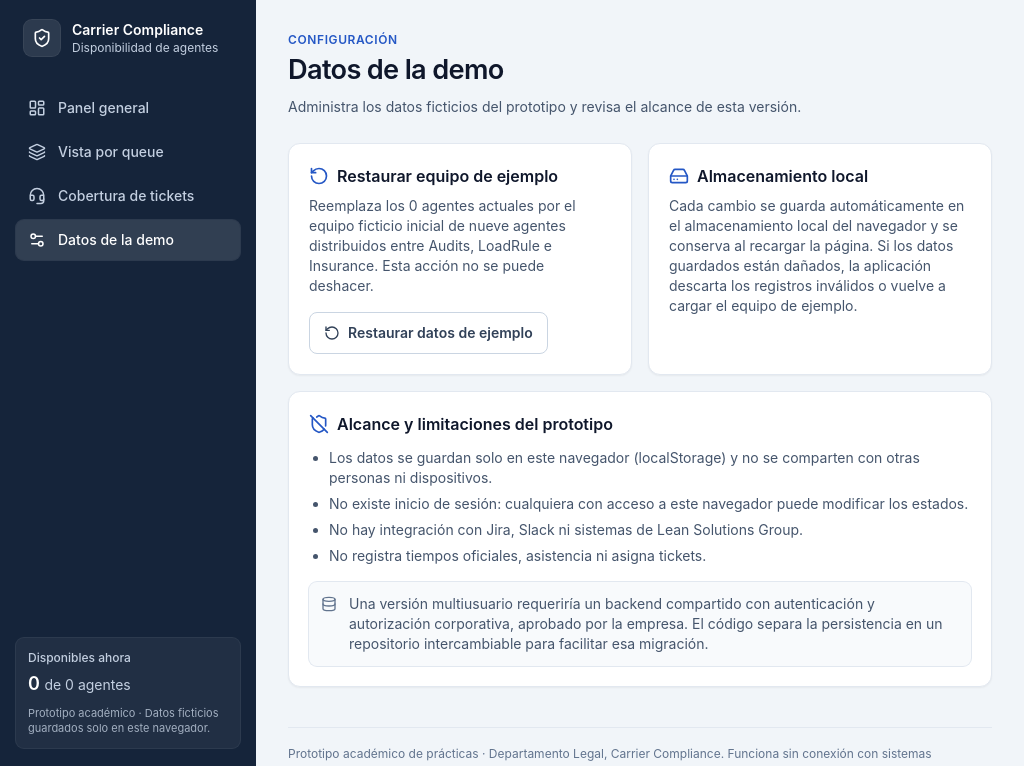
Test: Panel de disponibilidad › restaura los datos de ejemplo tras confirmar
expect the heading "Datos de la demo" is shown: met, box [288,53,504,86]
Click the button "Restaurar datos de ejemplo" at (428, 333), box [309,312,548,354]
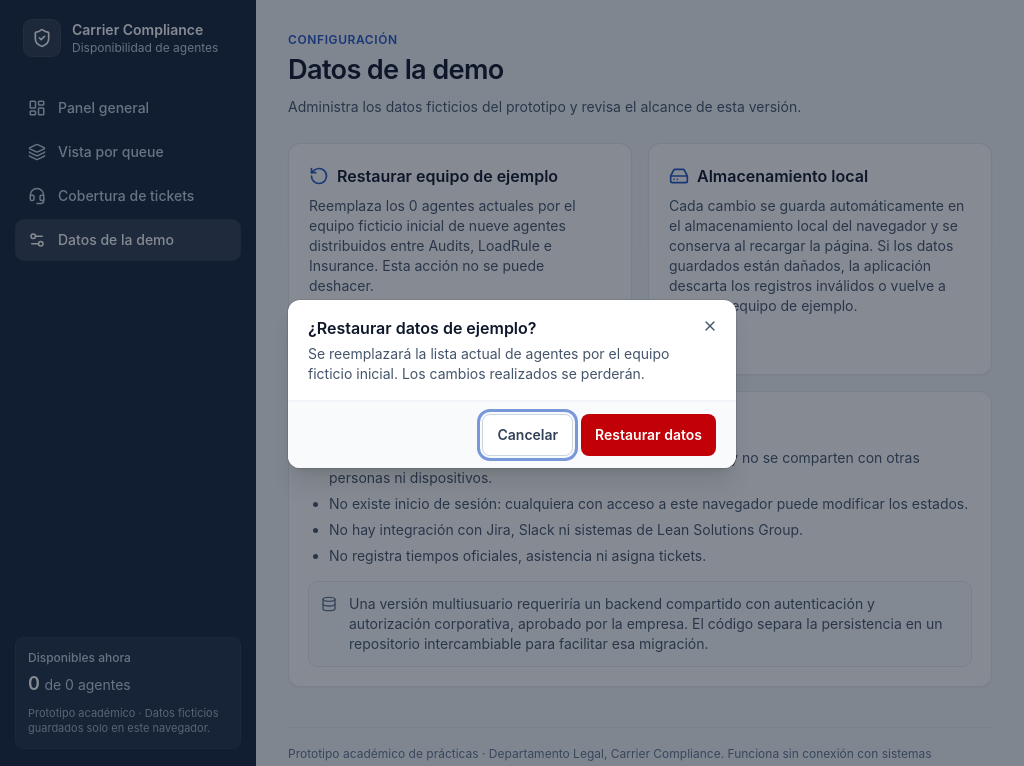
Click the button "Restaurar datos" at (649, 435), box [581,414,716,456]
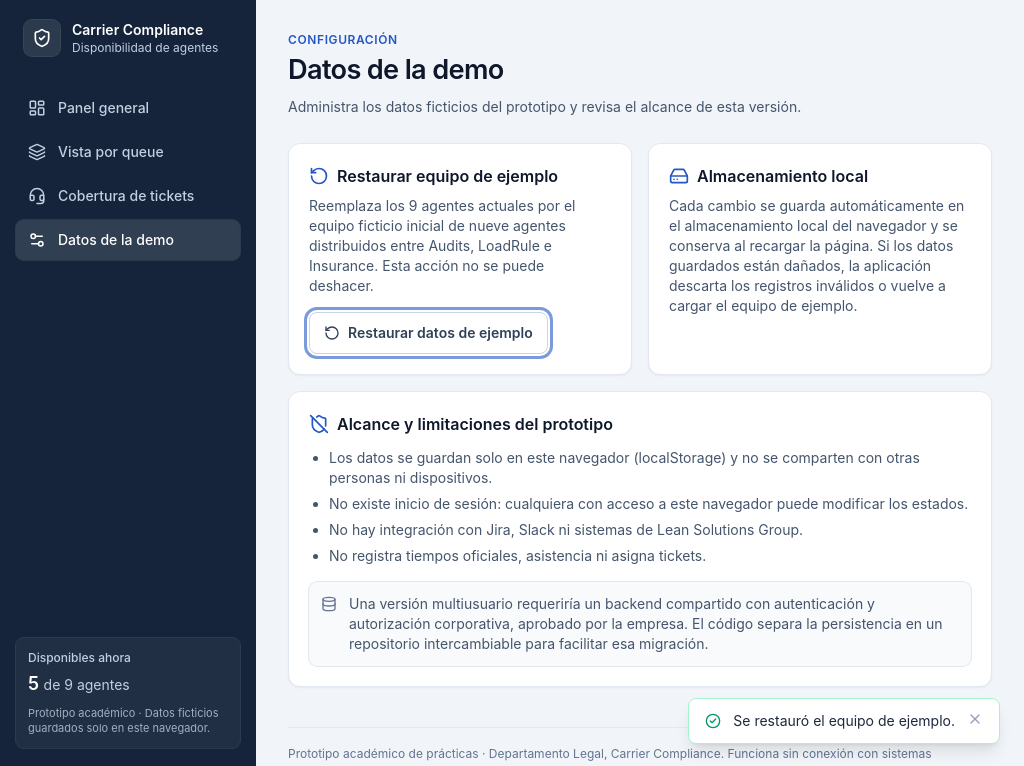
expect the text "Se restauró el equipo de ejemplo." is shown: met, box [733,711,955,731]
